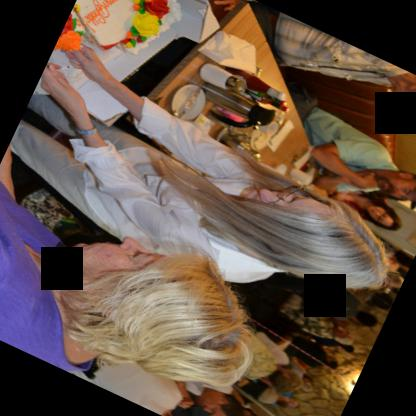handbag: (284, 79, 308, 103)
